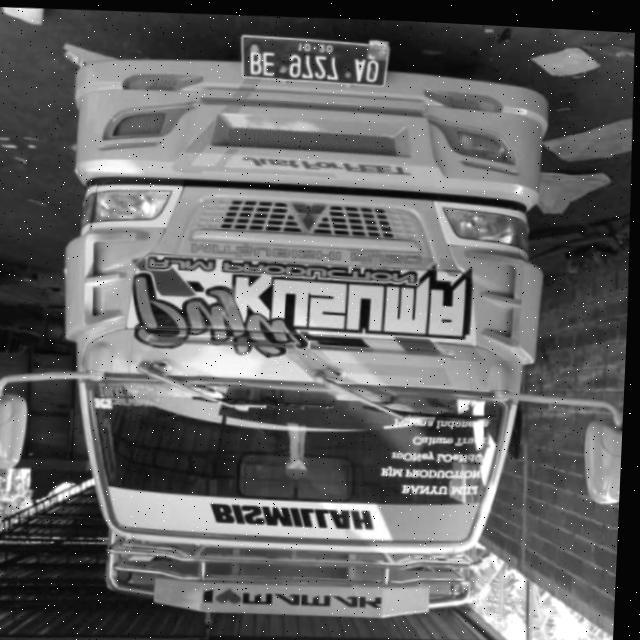truck: (0, 8, 640, 633)
